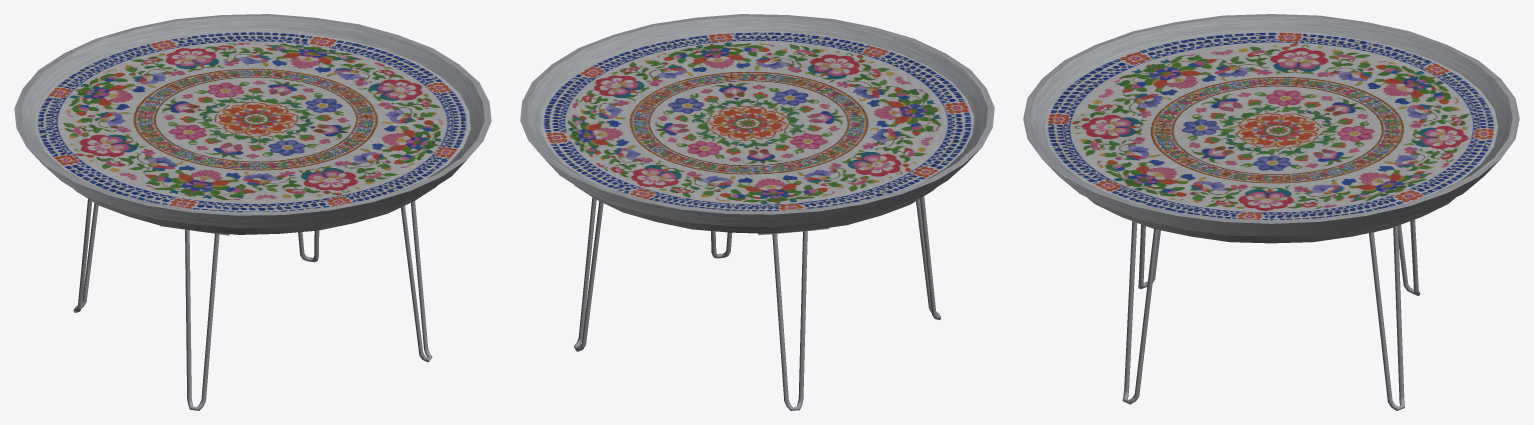
File: stage4_metal_table.fbx
The picture shows the model from 3 angles, left to right: view 1: azimuth 30°, elevation 25°; view 2: azimuth 150°, elevation 25°; view 3: azimuth 270°, elevation 25°; orthographic projection. The views are drawn at different scales.
Parts seen in each view (by area): view 1: stage4_metal_table; view 2: stage4_metal_table; view 3: stage4_metal_table.
Part boxes in pixels (x1,y1,x2,y2): stage4_metal_table: (14, 14, 491, 410); stage4_metal_table: (520, 14, 994, 410); stage4_metal_table: (1023, 14, 1519, 410).
Size of the model in its own units: 94.46 by 48.43 by 94.46.
